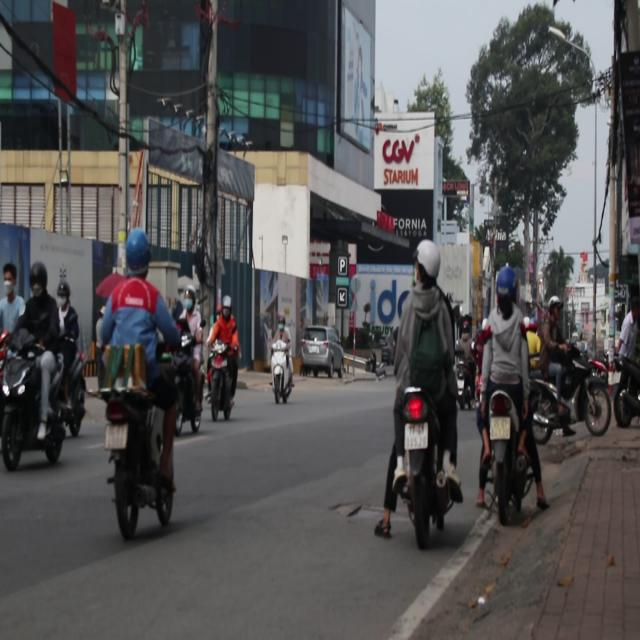car: (299, 324, 344, 378)
motorbike: (97, 342, 187, 540), (0, 334, 72, 470), (556, 352, 612, 437), (210, 338, 240, 427), (271, 336, 295, 405)
